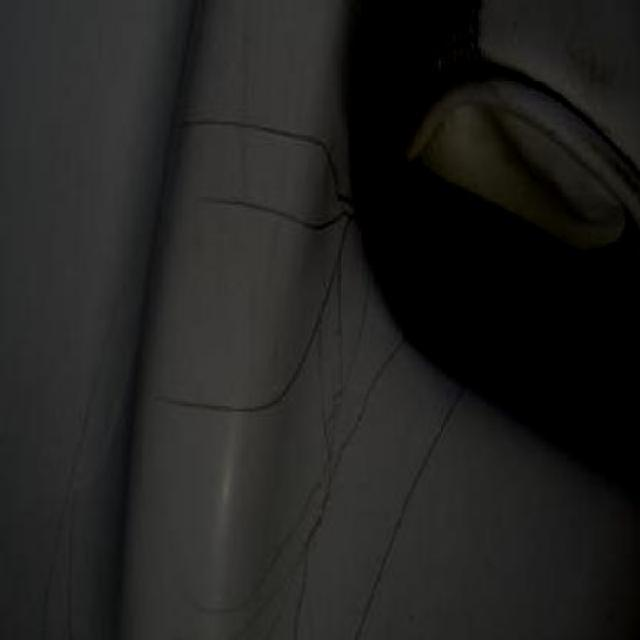crack: (214, 175, 332, 240), (207, 118, 350, 166), (181, 390, 244, 438)
